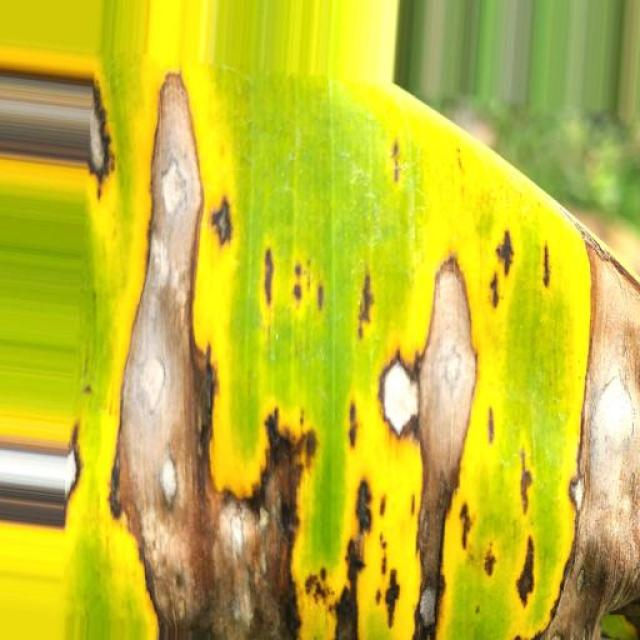Early_rust: (66, 51, 640, 640)
